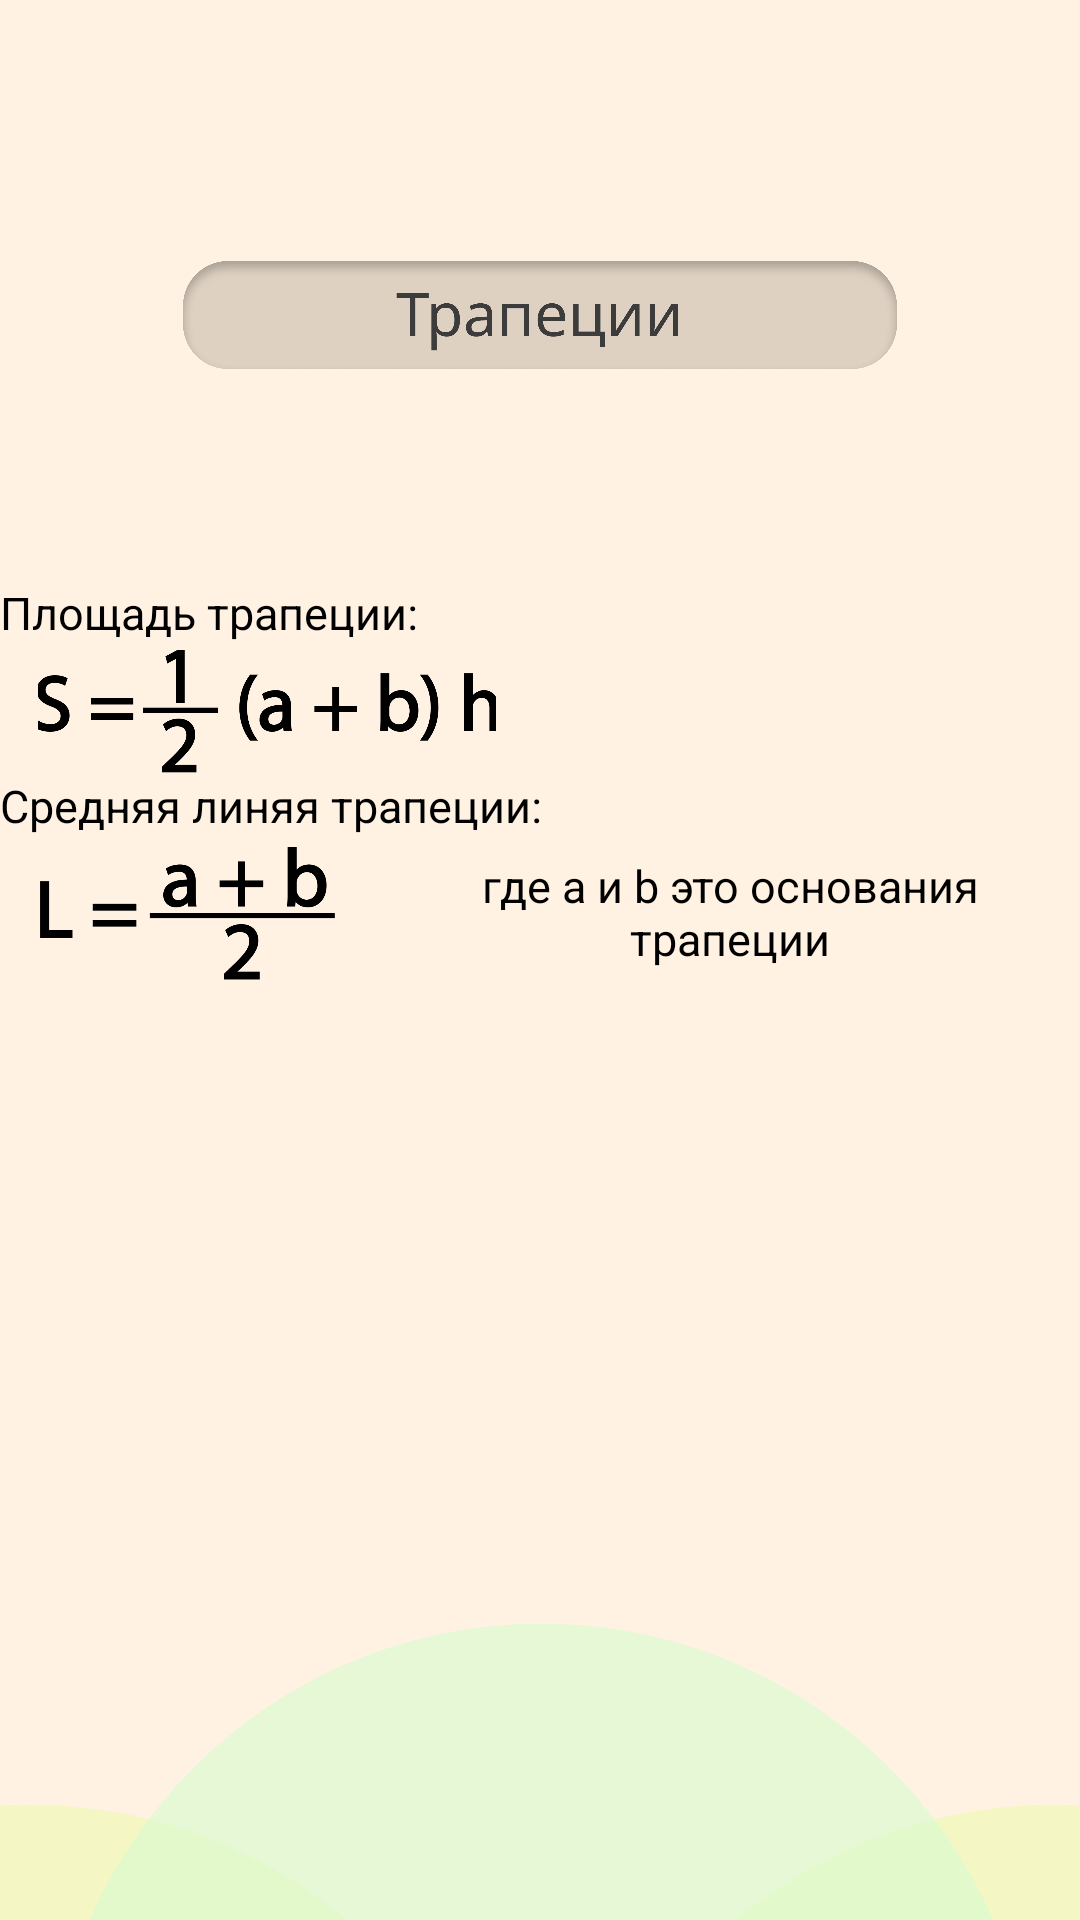

Where to tap for icons on this 1080*1920 app screen, as (x,y):
trapformula: (187,913)
